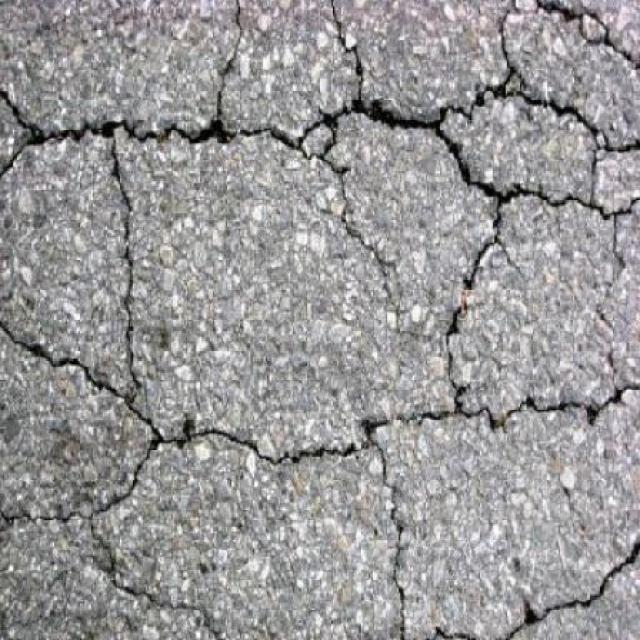Crack: (0, 0, 640, 292), (0, 222, 409, 639), (399, 308, 640, 432), (506, 542, 640, 639), (536, 1, 640, 73), (351, 100, 434, 128), (221, 0, 245, 92)
